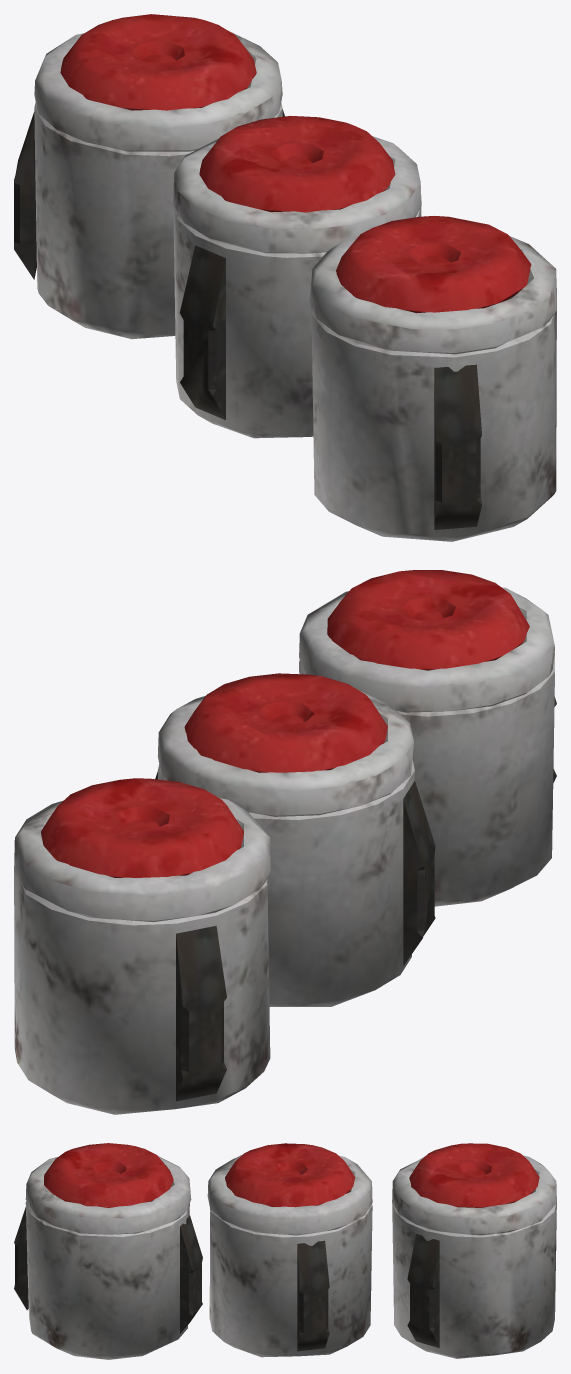
File: KB3D_NEC_BldgSM_C_Containers.glb
3 renders of one model, top to bottom at view 1: azimuth 30°, elevation 25°; view 2: azimuth 150°, elevation 25°; view 3: azimuth 270°, elevation 25°, orthographic. The views are drawn at different scales.
Visible parts, largest first — view 1: KB3D_NEC_BldgSM_C_Containers; view 2: KB3D_NEC_BldgSM_C_Containers; view 3: KB3D_NEC_BldgSM_C_Containers.
Boxes of the visible parts, x1,y1,x2,y2 form: KB3D_NEC_BldgSM_C_Containers: (14,14,556,541); KB3D_NEC_BldgSM_C_Containers: (14,570,556,1114); KB3D_NEC_BldgSM_C_Containers: (14,1143,556,1359).
Bounding box in the file's own units: 0.6573 × 0.6276 × 1.86.
3 materials, 3 textured.
